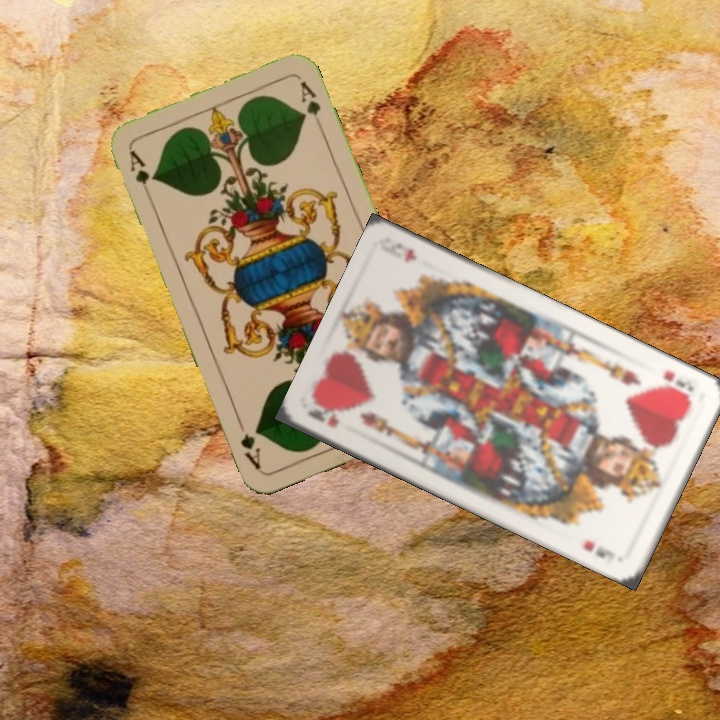GA: (125, 146, 155, 202)
HK: (653, 366, 696, 401), (304, 399, 342, 430)
